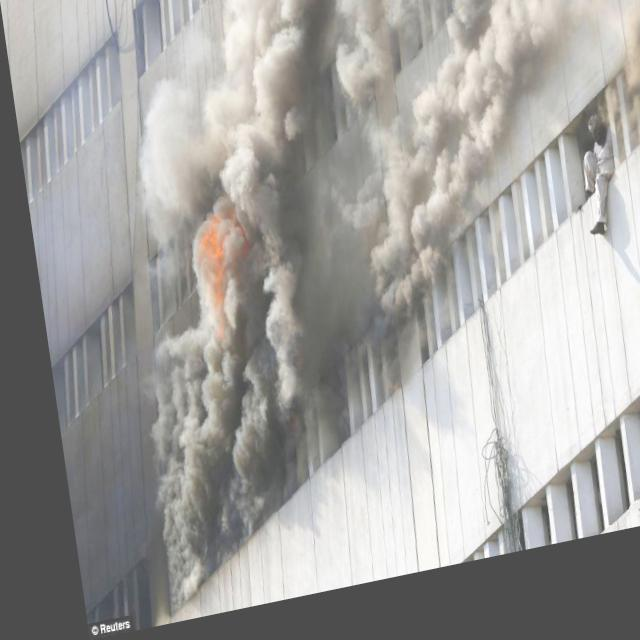Fire: (174, 202, 258, 352)
